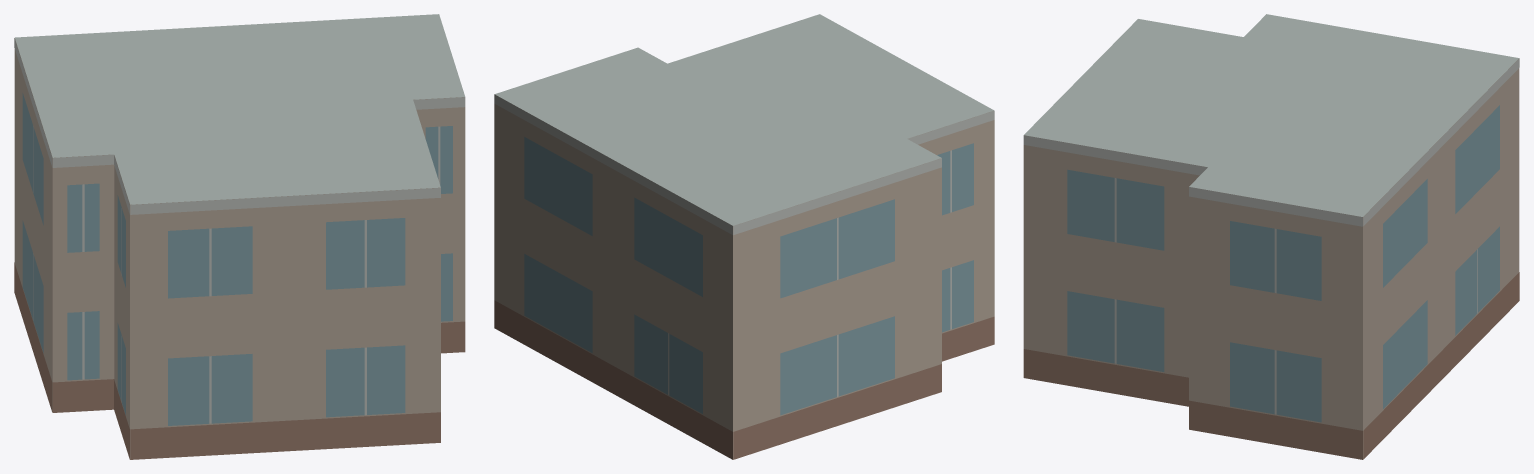
The model's file is survey-upis-32473508.glb.
3 views of the same model, side by side, from view 1: azimuth 30°, elevation 25°; view 2: azimuth 150°, elevation 25°; view 3: azimuth 270°, elevation 25° (orthographic). The views are drawn at different scales.
Parts seen in each view (by area): view 1: survey-upis-32473508.tmp; view 2: survey-upis-32473508.tmp; view 3: survey-upis-32473508.tmp.
Part boxes in pixels (left/top/right/bottom): survey-upis-32473508.tmp: left=14, top=14, right=465, bottom=459; survey-upis-32473508.tmp: left=494, top=14, right=994, bottom=459; survey-upis-32473508.tmp: left=1023, top=14, right=1519, bottom=459.
Bounding box in the file's own units: 10.95 × 6.1 × 11.3.
